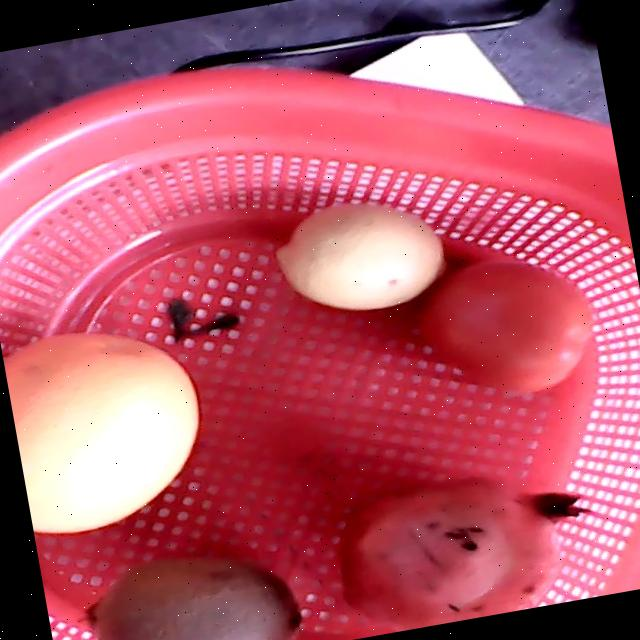kiwi: (82, 555, 301, 640)
lemon: (274, 202, 440, 310)
orange: (5, 334, 196, 533)
pomegranate: (338, 476, 585, 633)
tomato: (420, 262, 593, 393)
